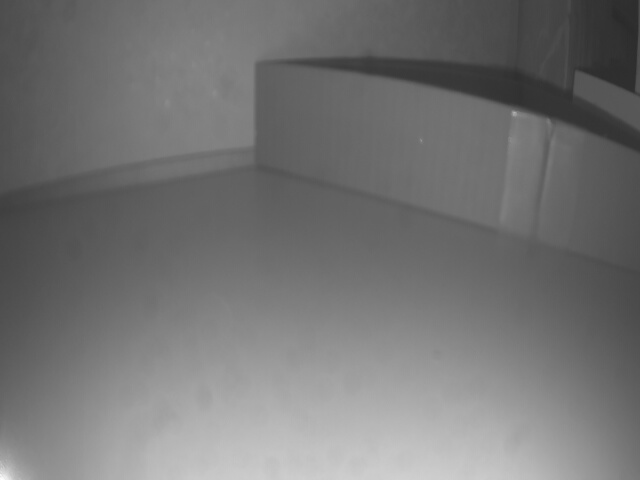Point: (251, 60, 640, 274)
